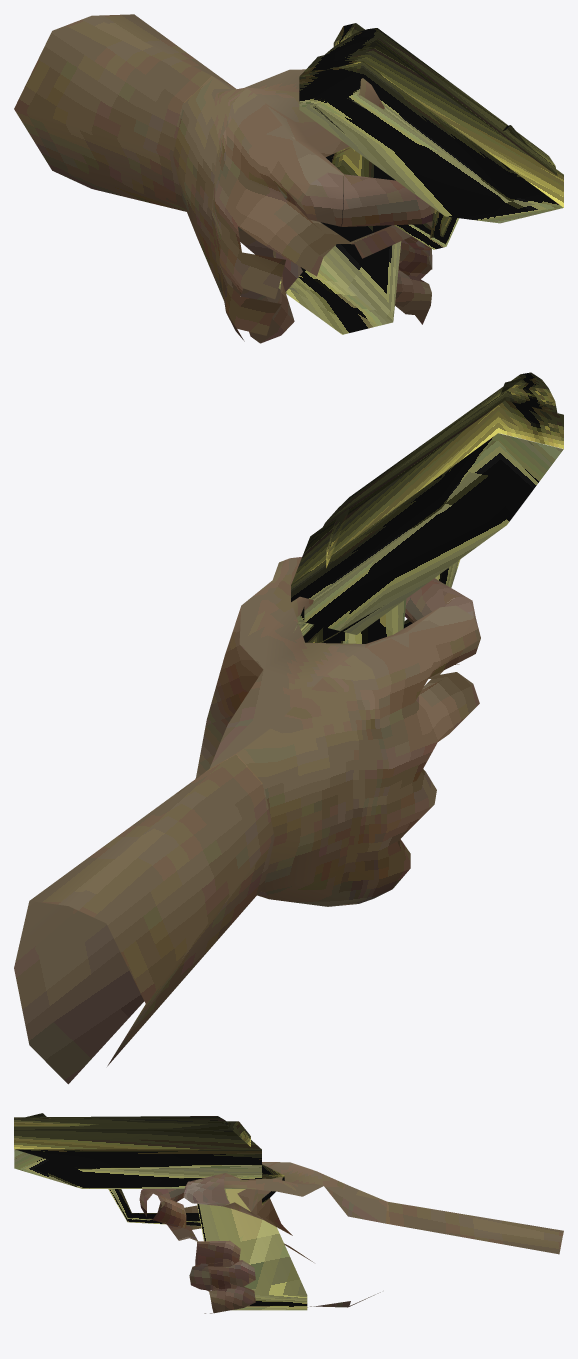
The model's file is gun.glb.
3 renders of one model, top to bottom at view 1: azimuth 30°, elevation 25°; view 2: azimuth 150°, elevation 25°; view 3: azimuth 270°, elevation 25°, orthographic. The views are drawn at different scales.
Visible parts, largest first — view 1: m4EnvMappingTexScaleS0.031250TexScaleT0.031250, m7ClampSClampT, m10ClampSClampT, m5ClampSClampT, m6ClampSClampT, m8ClampSClampT, m9ClampSClampT; view 2: m7ClampSClampT, m4EnvMappingTexScaleS0.031250TexScaleT0.031250, m10ClampSClampT, m6ClampSClampT, m8ClampSClampT, m9ClampSClampT, m5ClampSClampT; view 3: m4EnvMappingTexScaleS0.031250TexScaleT0.031250, m10ClampSClampT, m6ClampSClampT, m8ClampSClampT, m5ClampSClampT, m9ClampSClampT, m7ClampSClampT.
Part boxes in pixels (<box>): m4EnvMappingTexScaleS0.031250TexScaleT0.031250: <box>278,23,563,334</box>; m7ClampSClampT: <box>173,76,351,341</box>; m10ClampSClampT: <box>14,14,236,211</box>; m5ClampSClampT: <box>301,172,434,269</box>; m6ClampSClampT: <box>395,221,432,324</box>; m8ClampSClampT: <box>214,69,384,125</box>; m9ClampSClampT: <box>238,148,349,343</box>; m7ClampSClampT: <box>237,605,480,906</box>; m4EnvMappingTexScaleS0.031250TexScaleT0.031250: <box>291,372,563,643</box>; m10ClampSClampT: <box>29,754,274,1066</box>; m6ClampSClampT: <box>14,901,144,1084</box>; m8ClampSClampT: <box>209,558,365,768</box>; m9ClampSClampT: <box>195,606,263,778</box>; m5ClampSClampT: <box>291,557,480,678</box>; m4EnvMappingTexScaleS0.031250TexScaleT0.031250: <box>14,1113,307,1310</box>; m10ClampSClampT: <box>385,1201,563,1254</box>; m6ClampSClampT: <box>148,1195,255,1313</box>; m8ClampSClampT: <box>224,1162,387,1223</box>; m5ClampSClampT: <box>139,1173,229,1290</box>; m9ClampSClampT: <box>223,1198,380,1307</box>; m7ClampSClampT: <box>184,1162,386,1229</box>.
Bounding box in the file's own units: 84 × 168 × 364.
7 materials, 7 textured.
